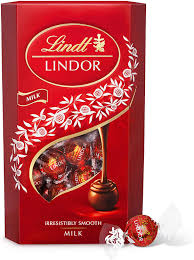Chocolate: (3, 1, 159, 244)
